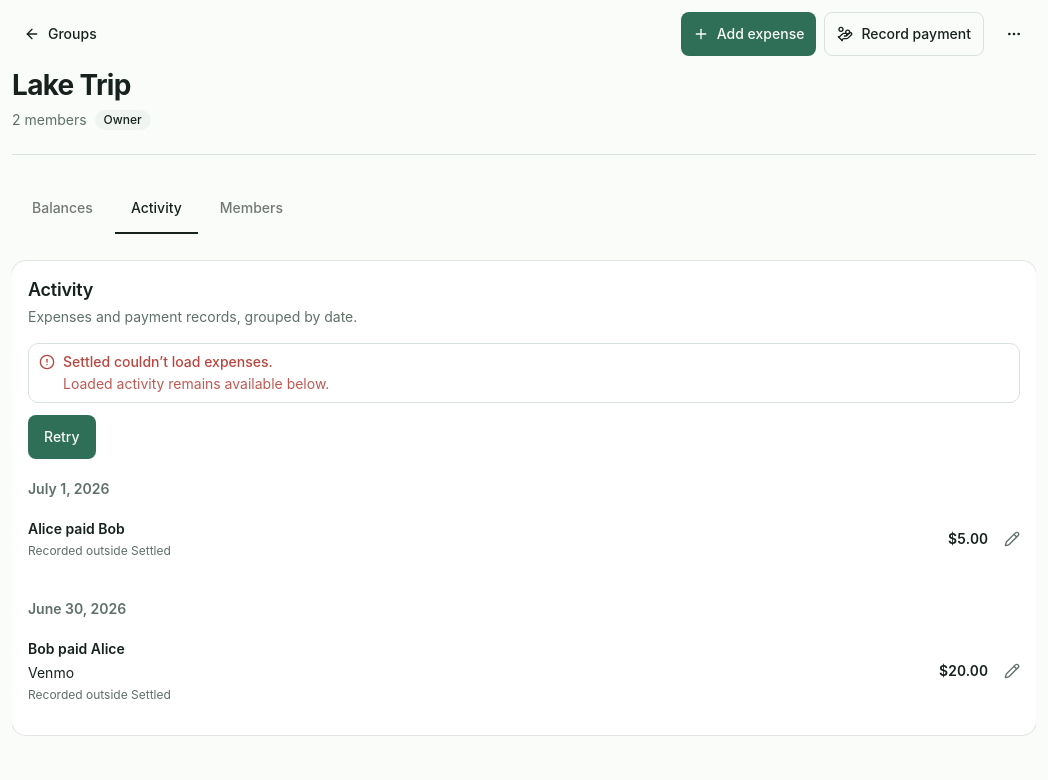
Test: independent group workspace failures › keeps loaded payment activity when the expense request fails
expect the text "Settled couldn’t load expenses." is shown: met, box [63, 353, 273, 370]
expect the text "Bob paid Alice" is shown: met, box [28, 640, 125, 657]
Click the tab "Balances": (62, 208) [15, 186, 110, 230]
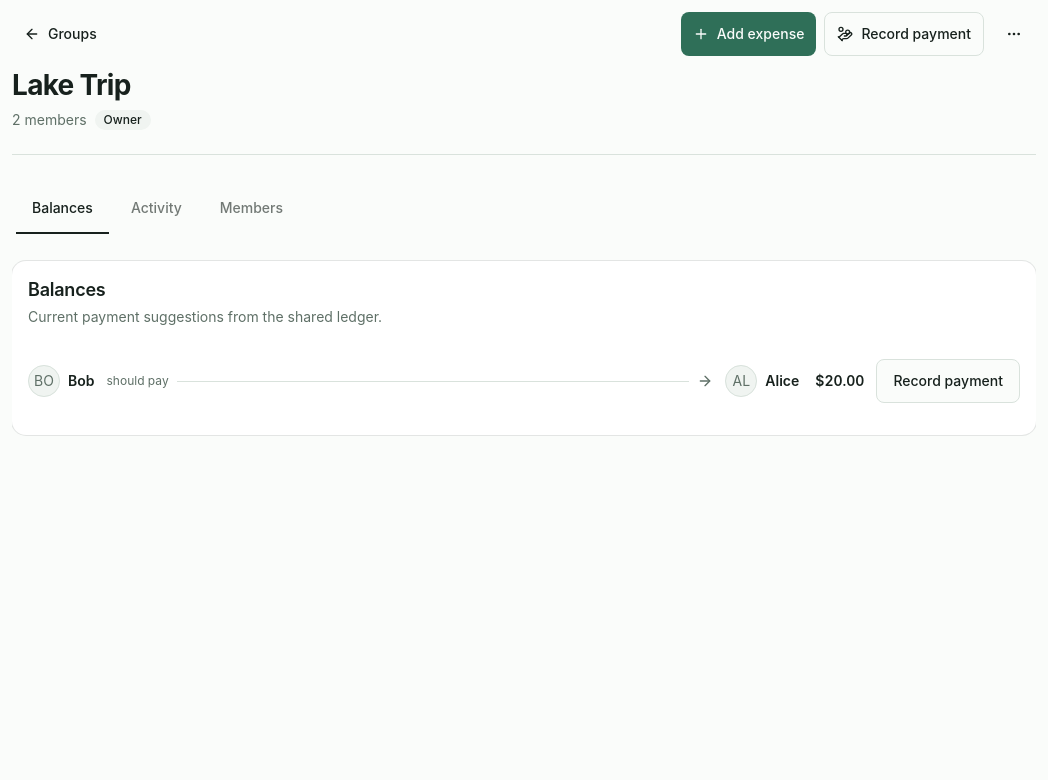
expect the heading "Balances" is shown: met, box [28, 279, 106, 300]
